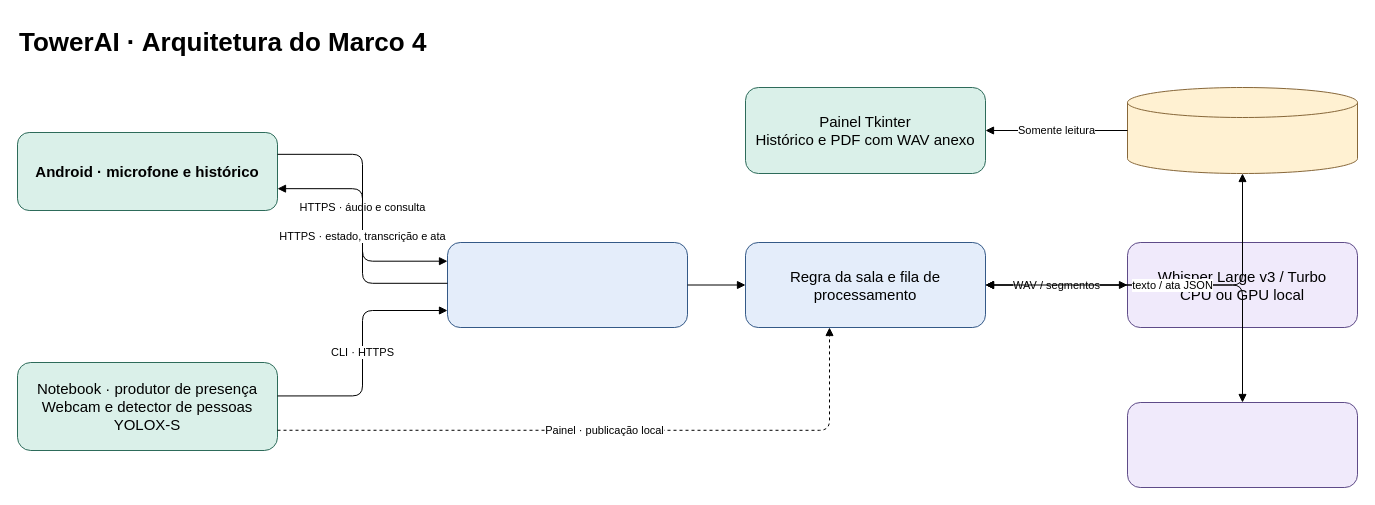
Image size: 1375x505. Some labels were removed from this diagram. Each missing label, with the box of its shape:
Modelo de texto local API em loopback: (1126, 402, 1358, 488)
Notebook · API HTTPS Autenticação, autorização e ACK: (446, 242, 688, 328)
SQLite Reuniões, segmentos e atas: (1126, 86, 1358, 174)
